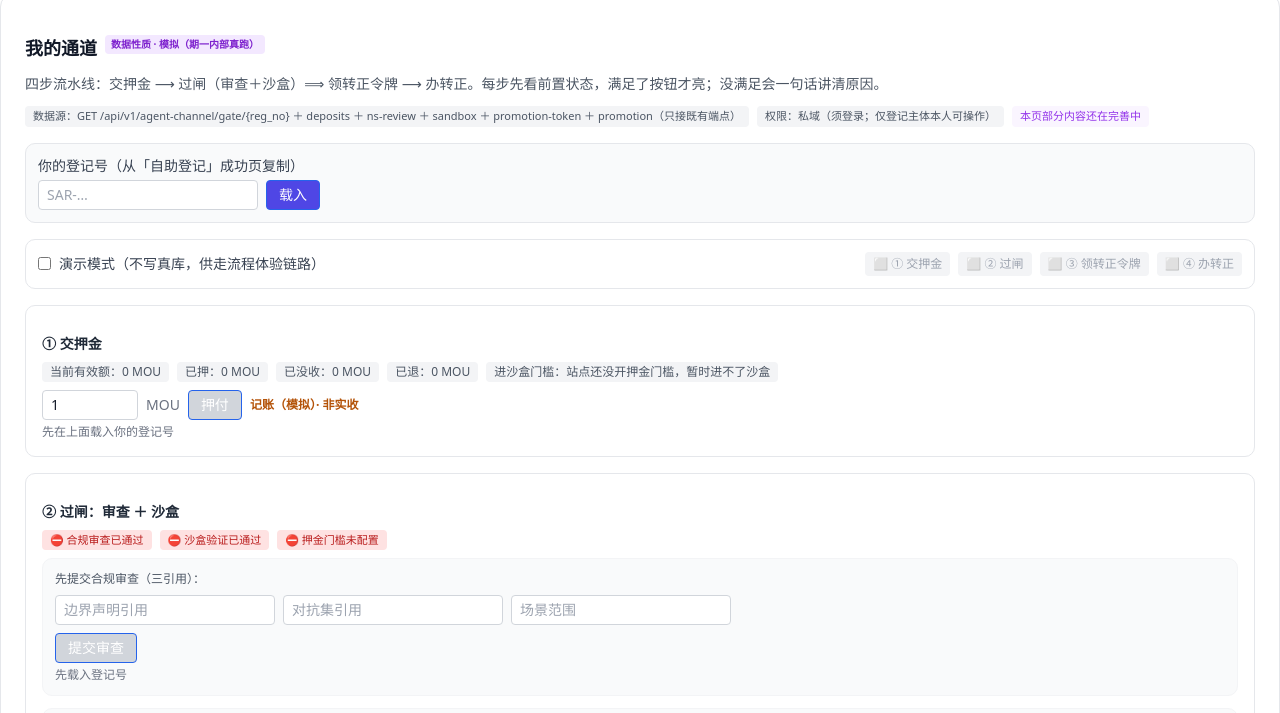
L1SI167-CHANNEL-UI-001（-002 步序修正）判成自测 › 判成2（真跑档·新登记）：审查三引用未填灰+人话；押金不足进不了沙盒；令牌两灯未绿不可签
This screenshot has width=1280, height=713.
Expected: the button with test id "deposit-pay" is disabled, [188,390,242,420]
Expected: the button with test id "review-submit" is disabled, [55,633,137,663]
In the field with test id "reg-input": (148, 194) [38,180,258,210], type "sar-test000001"
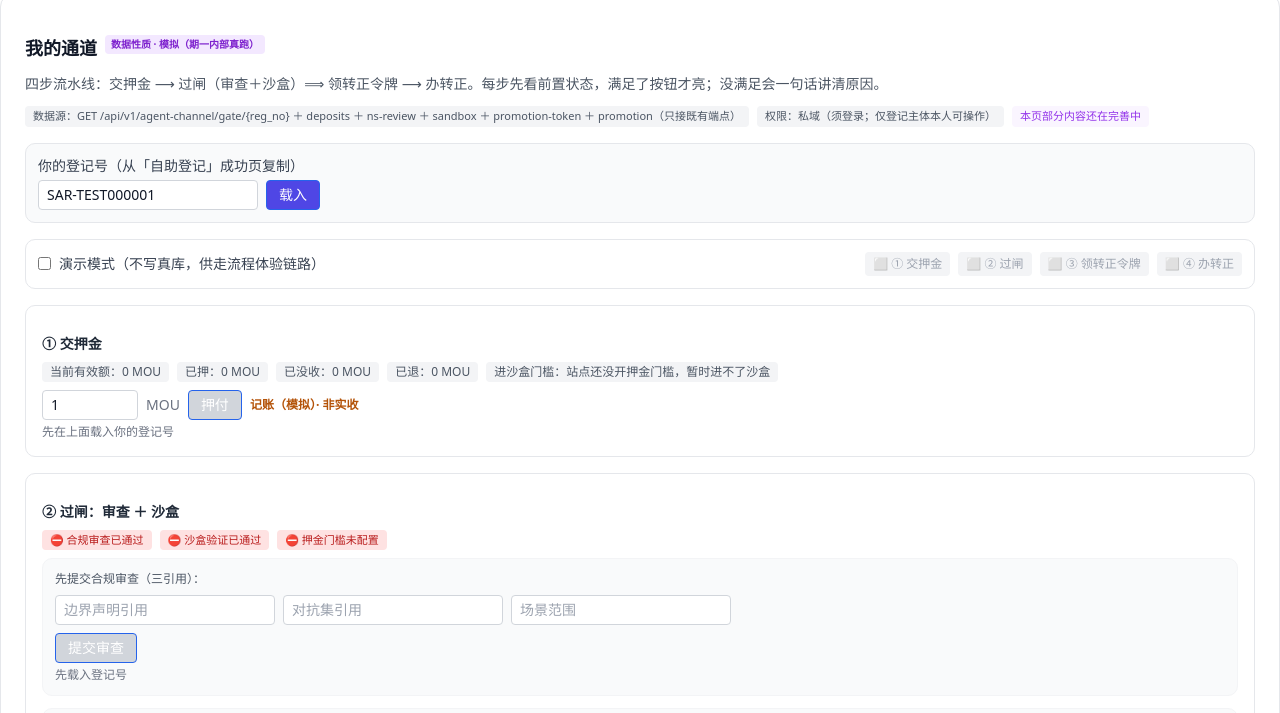
Click the button with test id "reg-load": (293, 194) [266,180,320,210]
(page scrolled)
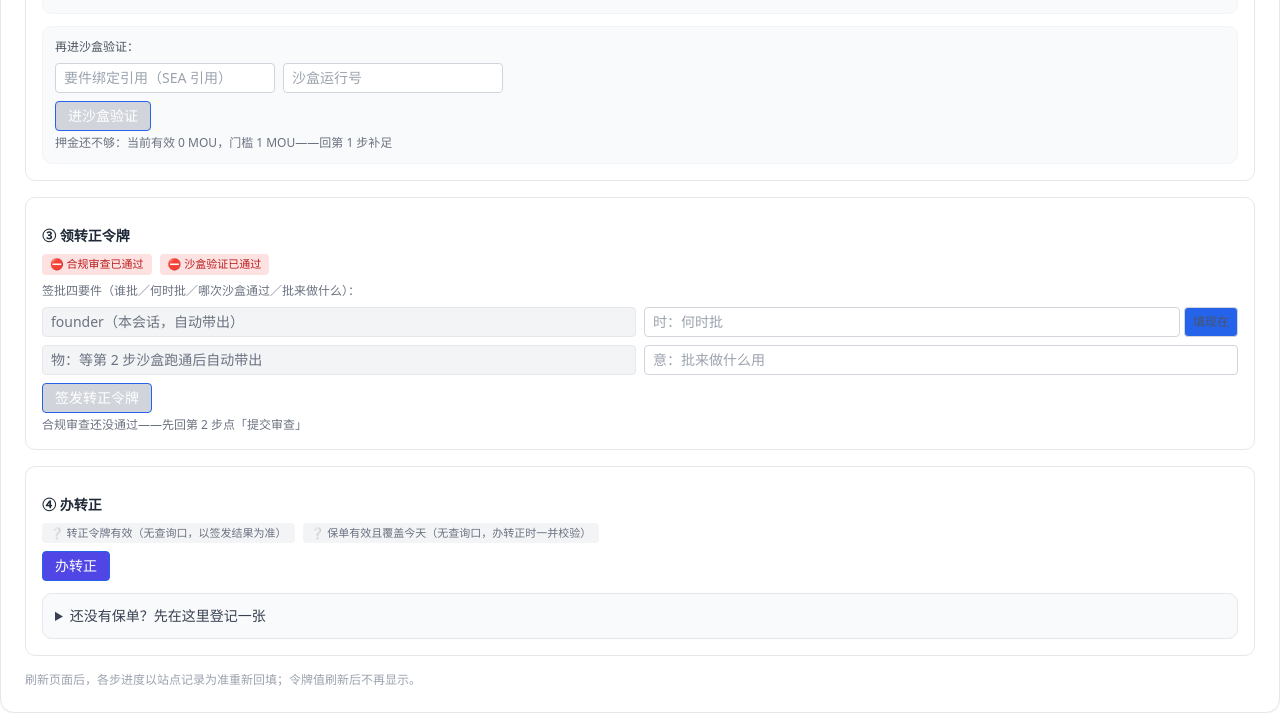
Expected: the button with test id "sandbox-enter" is disabled, [55,101,151,131]
Result: the text "押金还不够：当前有效 0 MOU，门槛 1 MOU——回第 1 步补足" is shown at [55,134,392,151]
Result: the text "合规审查还没通过——先回第 2 步点「提交审查」" is shown at [42,416,307,432]
